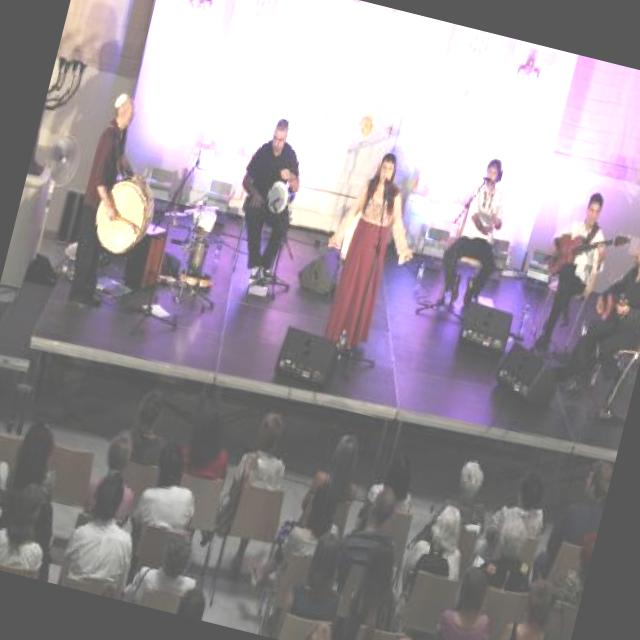Person: (300, 140, 440, 364), (54, 85, 160, 316), (209, 114, 310, 288), (524, 180, 620, 358), (430, 149, 520, 313), (211, 404, 295, 574), (566, 224, 640, 402), (56, 459, 150, 599), (323, 474, 412, 608), (268, 478, 349, 612), (125, 438, 210, 550), (476, 460, 558, 576), (122, 518, 216, 616), (396, 492, 480, 600), (296, 424, 368, 540), (76, 421, 149, 526), (436, 450, 500, 561), (425, 554, 507, 640), (0, 410, 69, 501), (492, 566, 573, 640), (0, 481, 59, 574), (0, 389, 28, 528)
